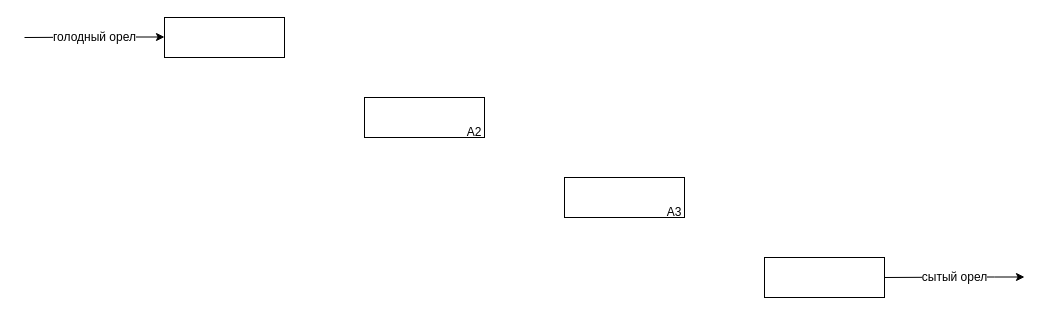
Some shapes in this 1050 by 317 pixel diagram are drawn without their labels. Each missing label, with the centre of its shape:
A1: the point at 224,37
A4: the point at 824,277
